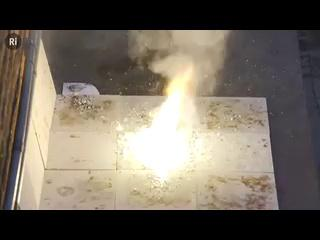Fire: (123, 67, 196, 175)
